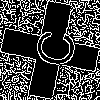C: (25, 25, 78, 70)
